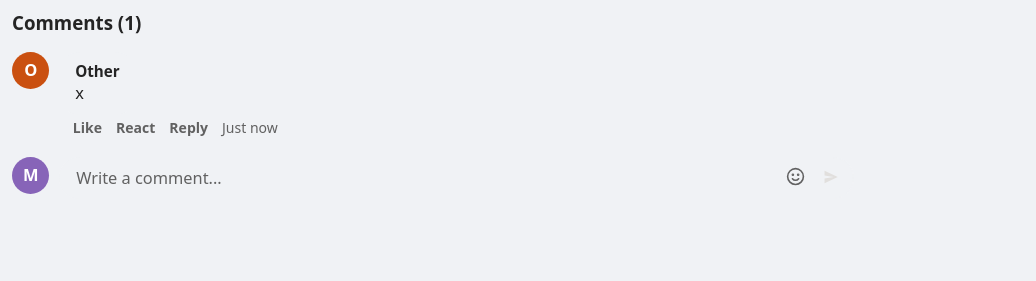
it: TaskComments › should_showError_whenReactionRejected
This screenshot has width=1036, height=281.
Click the button with test id "like".
click(87, 129)  # box [73, 119, 102, 138]
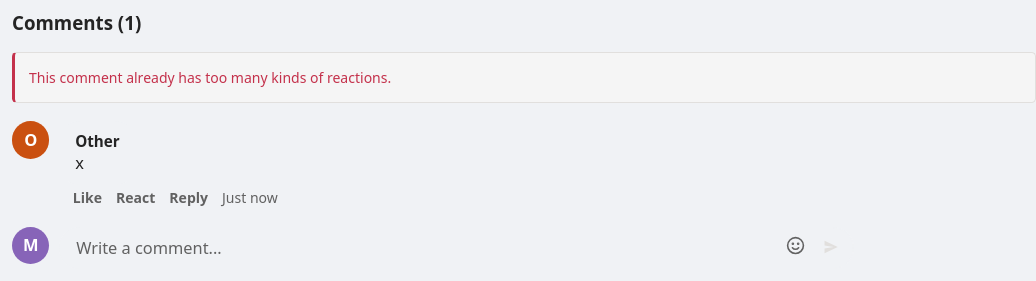
Expected: the text "too many kinds of reactions" is shown, [29, 68, 391, 87]
